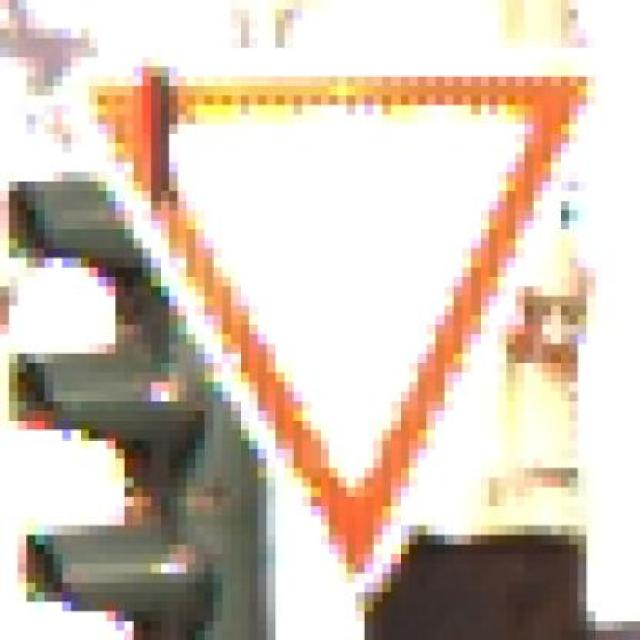Give Way: (89, 57, 632, 592)
